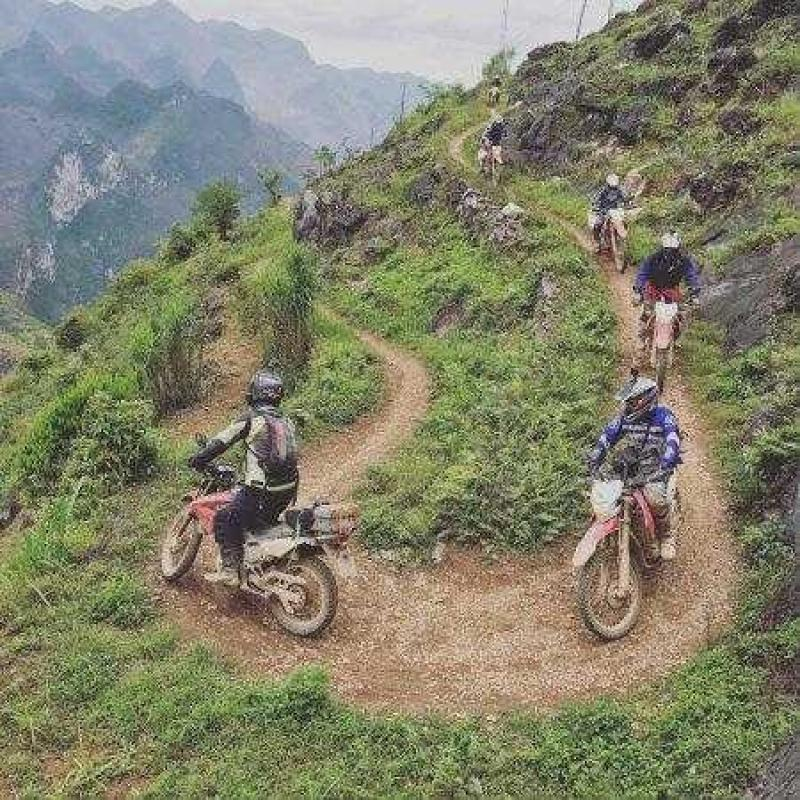bike: (174, 474, 355, 660), (569, 452, 671, 643), (634, 299, 688, 382), (611, 210, 639, 284)
